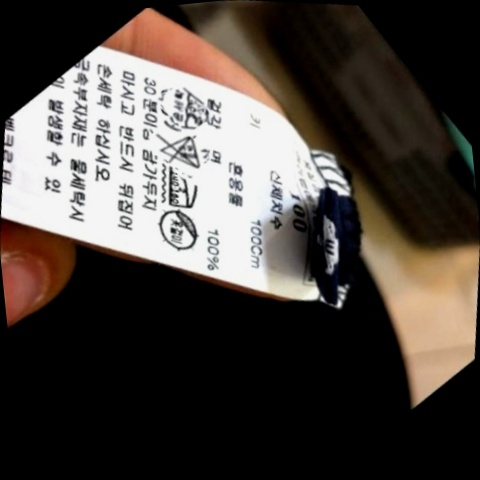hand_wash: (160, 77, 215, 135)
iron_medium: (160, 164, 209, 214)
line_dry_in_shade: (149, 199, 211, 261)
non_chlorine_bleach: (153, 127, 208, 175)
